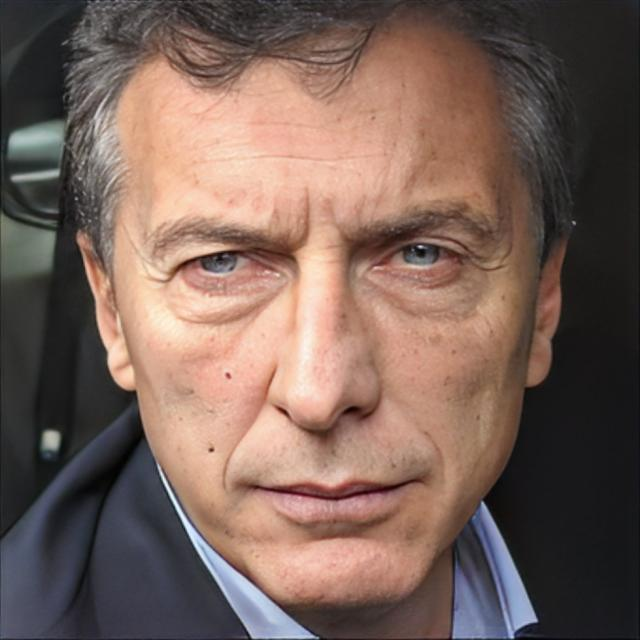anger: (121, 35, 534, 620)
